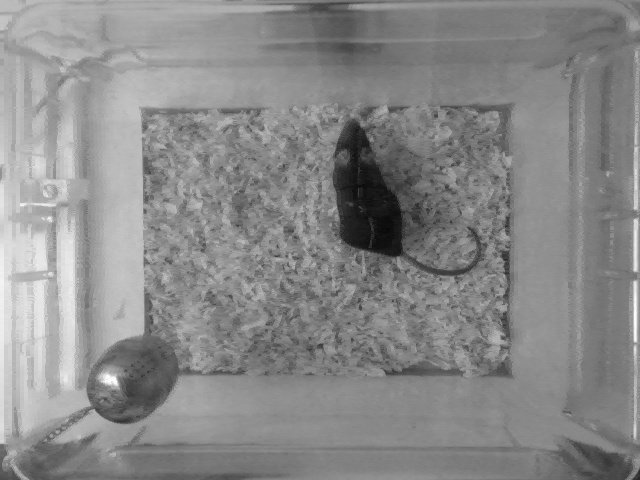mice: (328, 113, 485, 278)
